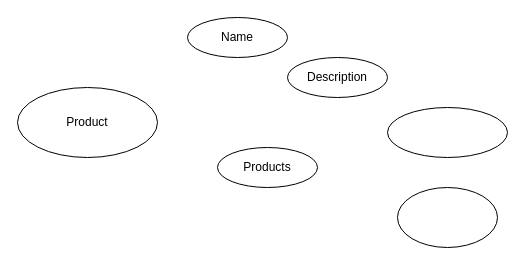
This 525x273 diagram has some shape labels left out. The box of each missing label's shape, as (x1, y1, x2, y2) in pixels:
Add Product to catalog: (386, 106, 508, 158)
Delete Product from catalog: (396, 186, 498, 248)
